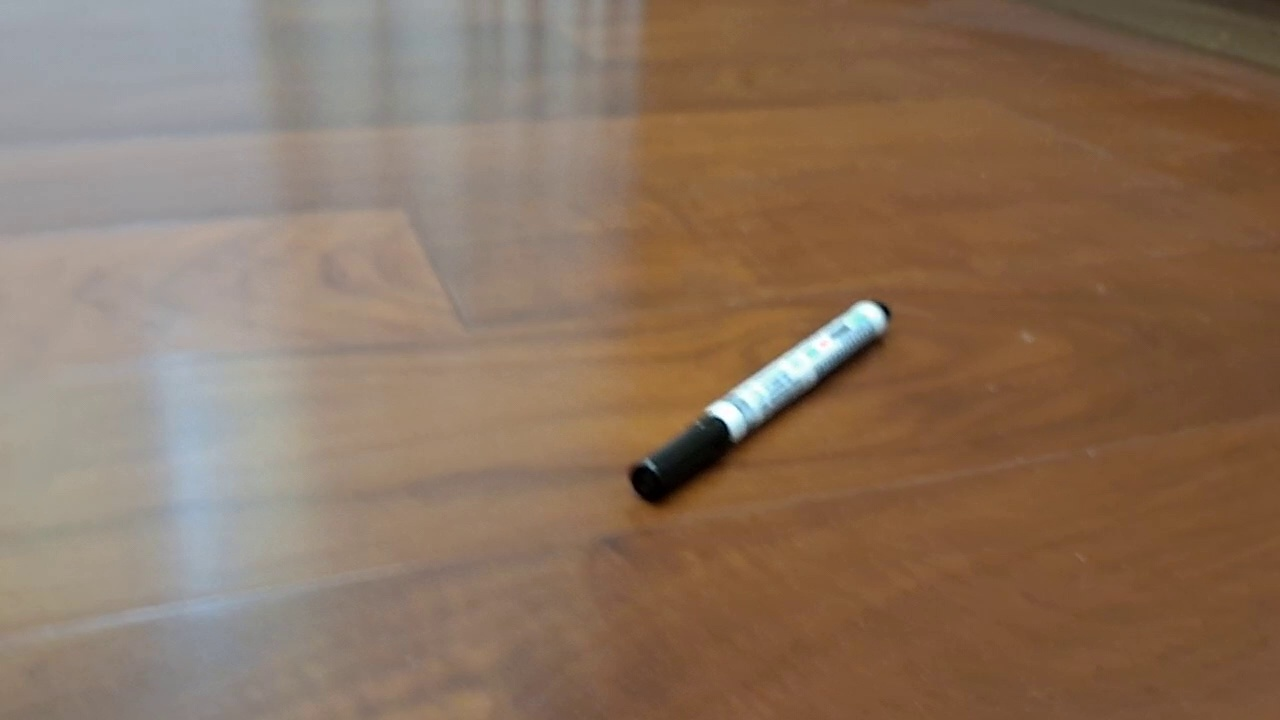pen: (628, 297, 892, 505)
